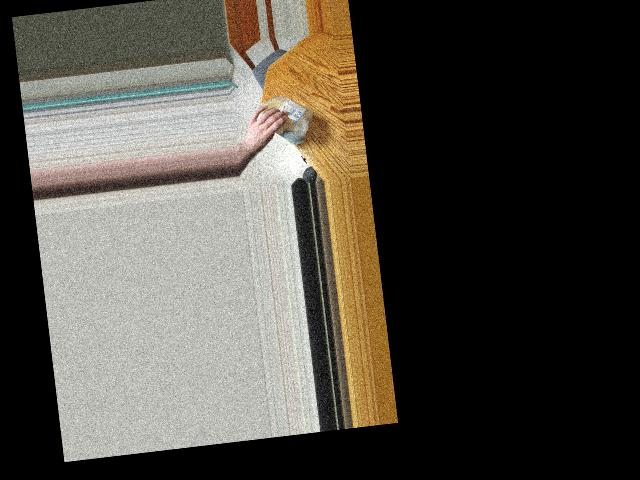cheese: (249, 90, 317, 148)
